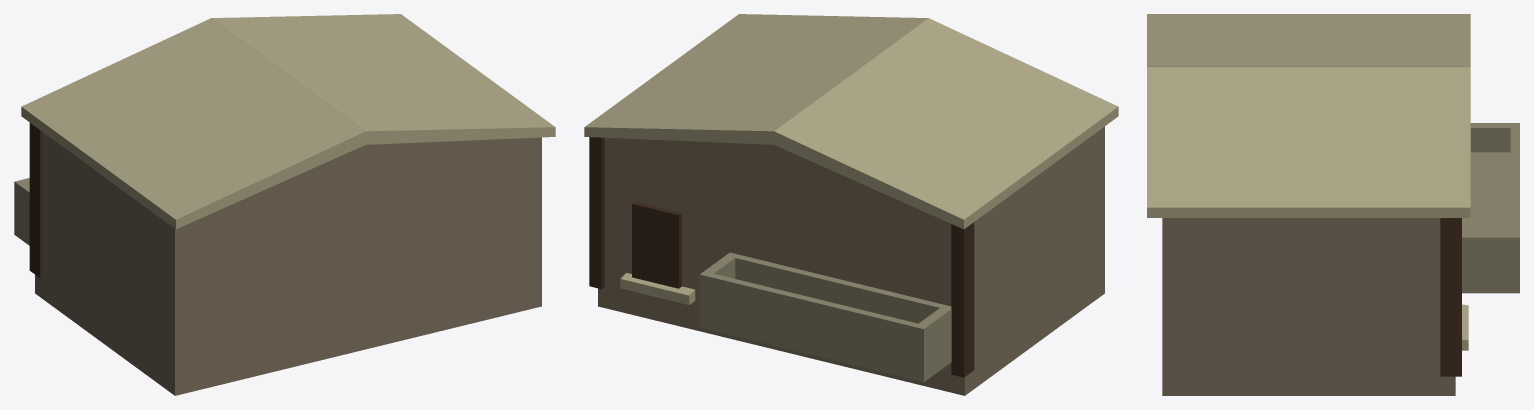
File: house1.fbx
3 views of the same model, side by side, from view 1: azimuth 30°, elevation 25°; view 2: azimuth 150°, elevation 25°; view 3: azimuth 270°, elevation 25° (orthographic). The views are drawn at different scales.
Parts seen in each view (by area): view 1: pCube703; view 2: pCube703; view 3: pCube703.
Boxes of the visible parts, bbox=[...] form: pCube703: bbox=[14, 14, 555, 395]; pCube703: bbox=[584, 14, 1118, 395]; pCube703: bbox=[1147, 14, 1519, 395].
Bounding box in the file's own units: 9.45 × 5.36 × 7.68.
